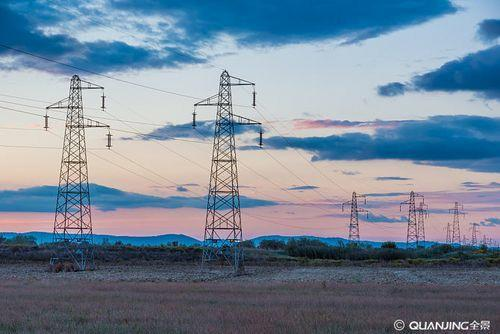power_tower: (190, 65, 278, 276), (34, 75, 117, 273), (340, 186, 371, 250), (399, 189, 422, 245)
